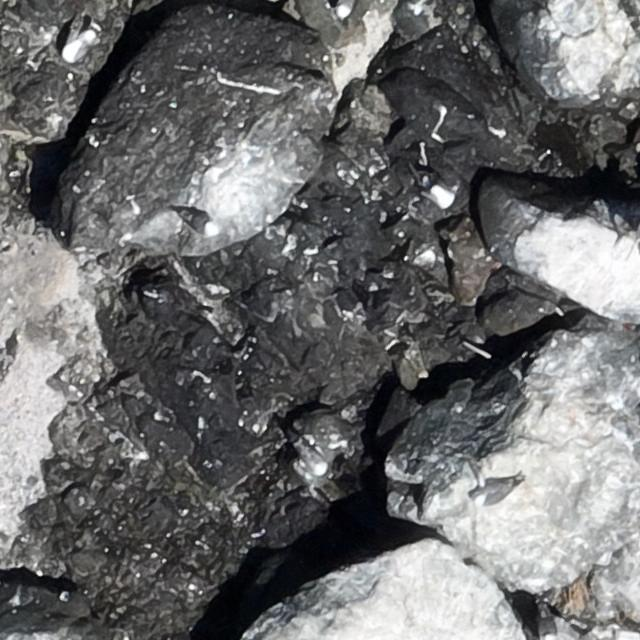umineko: (60, 23, 99, 64), (295, 430, 325, 475), (419, 177, 454, 206), (475, 482, 513, 502), (182, 213, 216, 234), (540, 615, 556, 640), (336, 0, 353, 18)
